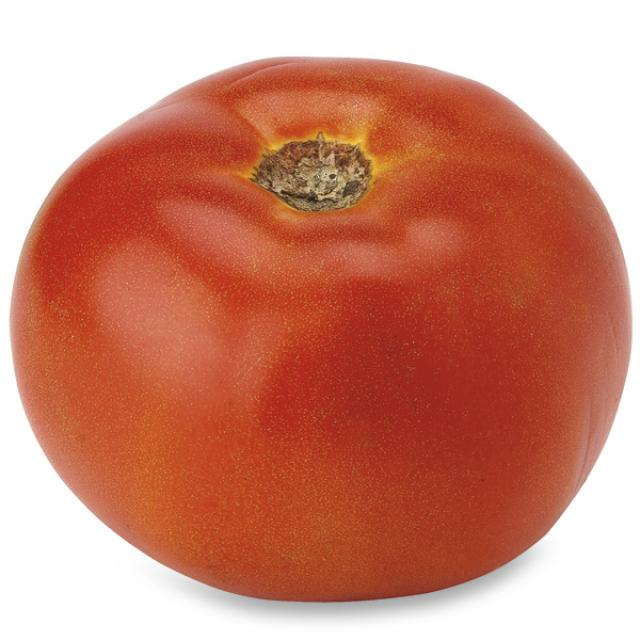ripe tomato: (9, 39, 636, 623)
